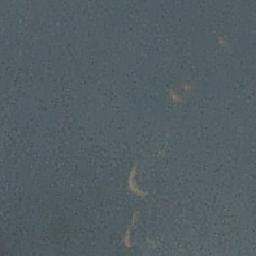debris: (123, 163, 146, 197), (119, 222, 137, 249)
